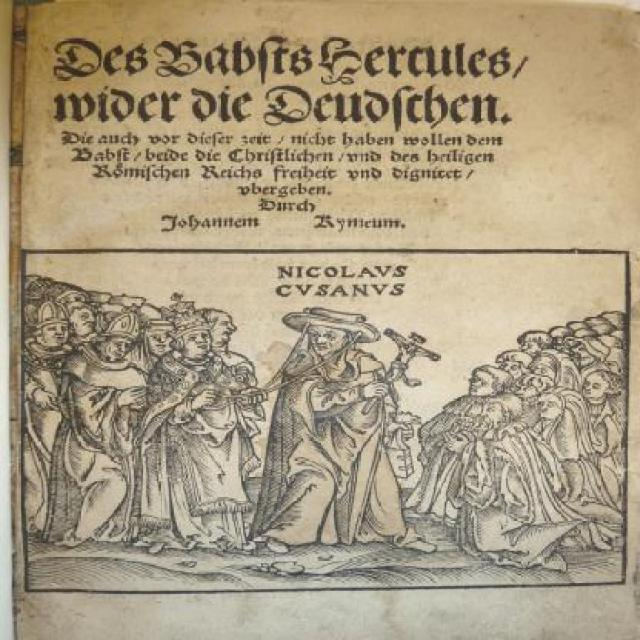Person: (18, 268, 632, 574), (255, 303, 438, 559), (131, 282, 264, 578)
